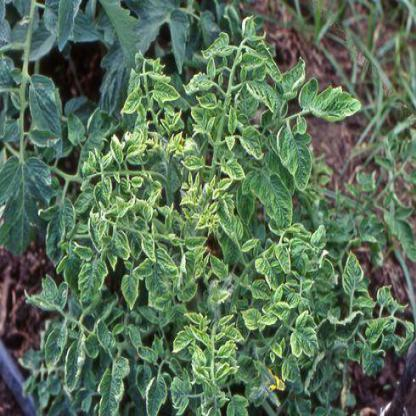tomato mold leaf: (1, 157, 57, 268), (296, 73, 368, 124), (250, 166, 297, 230), (277, 128, 315, 199), (90, 353, 133, 415), (22, 268, 71, 315), (142, 244, 177, 303), (36, 317, 70, 376), (64, 319, 90, 392), (76, 257, 109, 310), (278, 52, 311, 102), (290, 311, 324, 358), (245, 81, 283, 120), (140, 368, 169, 415), (116, 268, 143, 313), (340, 246, 365, 293), (172, 325, 200, 353), (220, 156, 248, 183), (206, 255, 230, 282), (275, 241, 293, 276), (237, 305, 261, 330)
